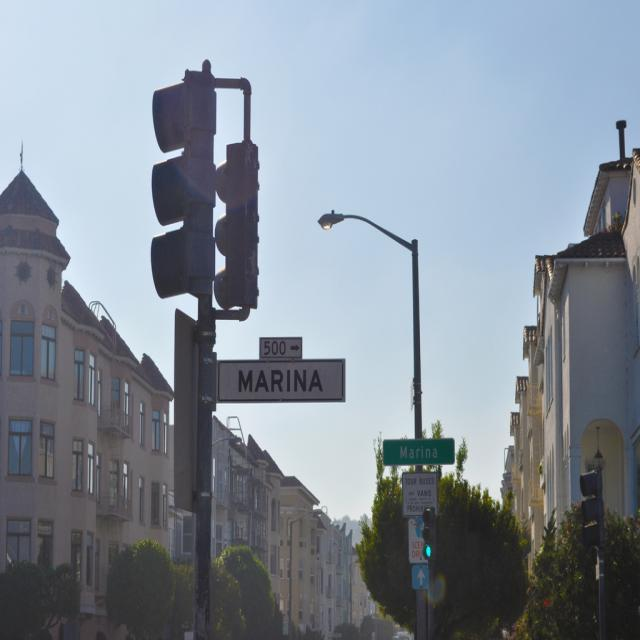off traffic light: (150, 75, 214, 300), (219, 127, 263, 310), (577, 466, 603, 548)
traffic light: (420, 505, 438, 567)
